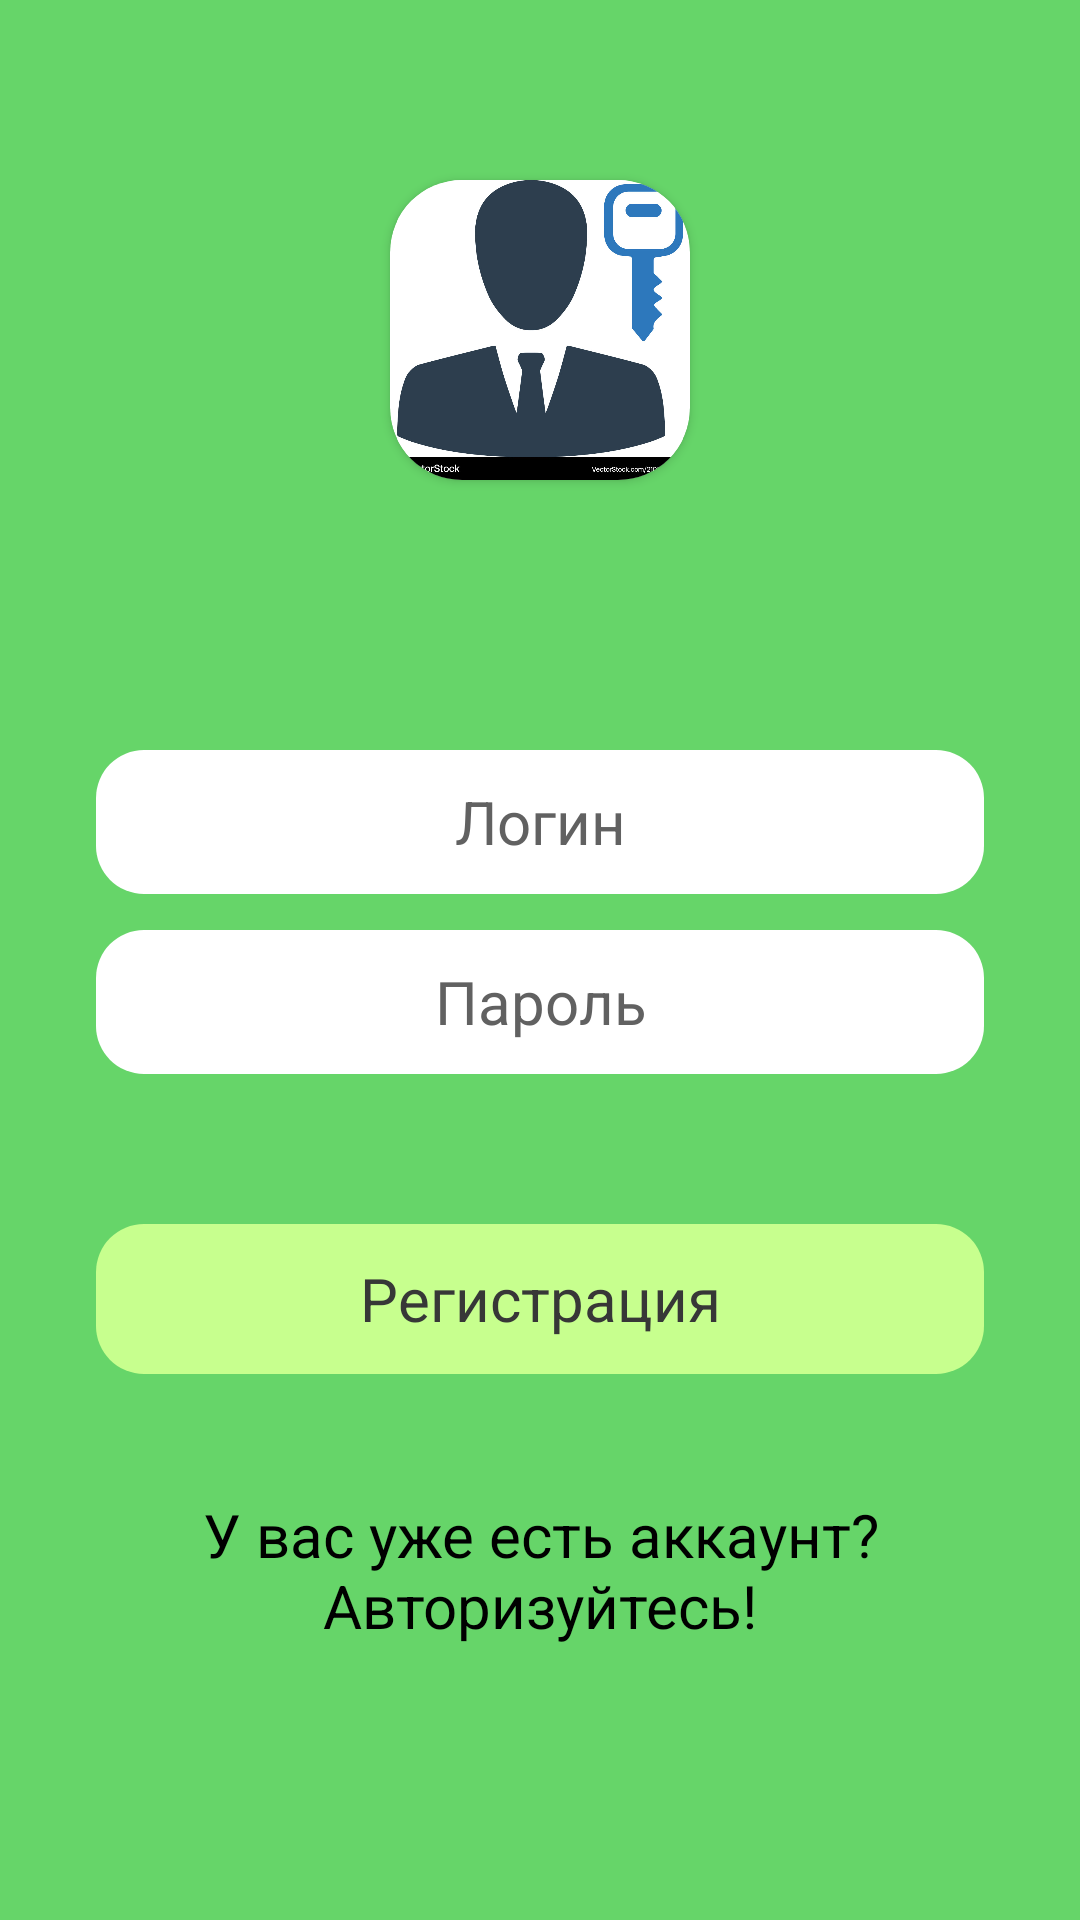

Icon click points for this 1080×1920 phone screenshot, format [x,y]:
log: [540,330]
